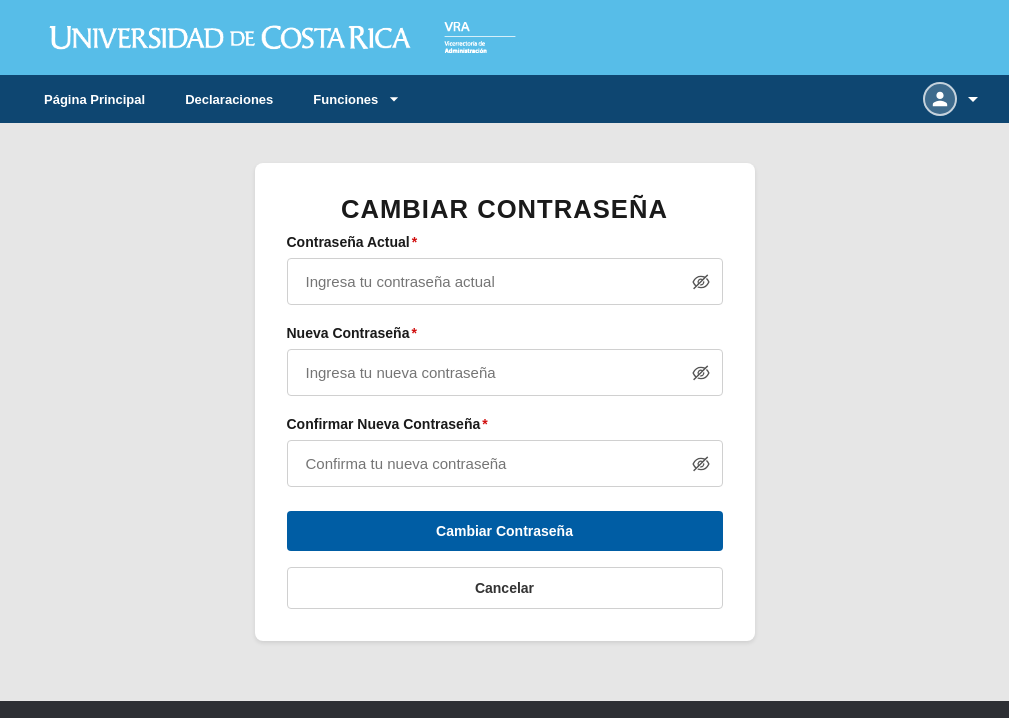
Test: ChangePassword Page › muestra error cuando nueva contraseña es igual a la actual
Type "SamePass12345!" into the password field with placeholder "Ingresa tu contraseña actual".
click(504, 282); type("SamePass12345!")  # box [286,258,722,305]
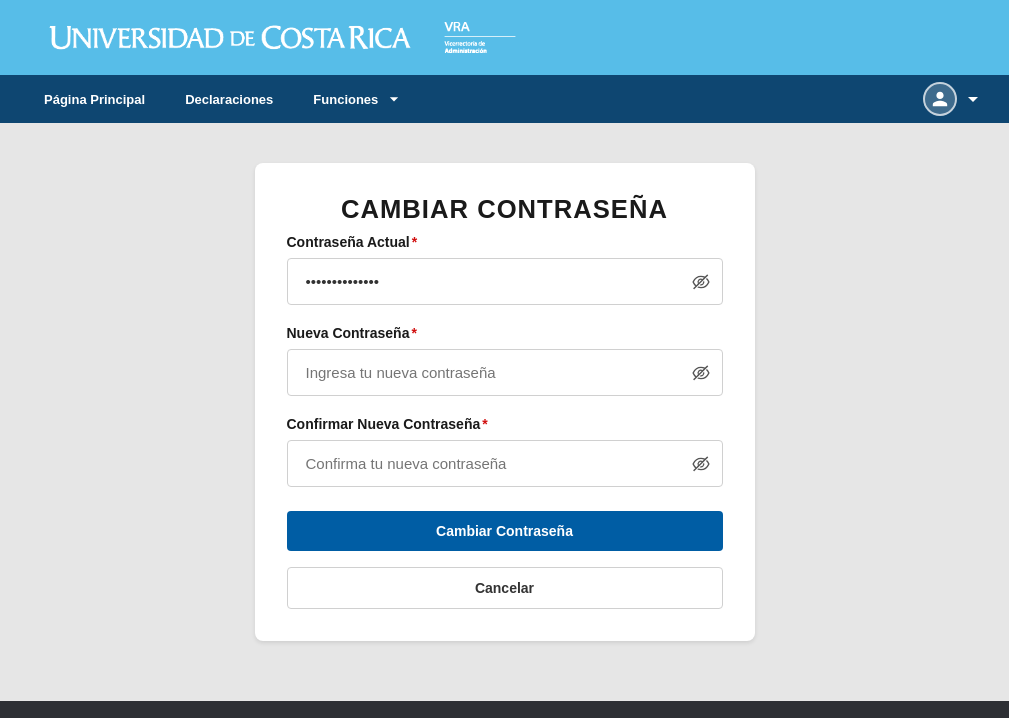
Type "SamePass12345!" into the password field with placeholder "Ingresa tu nueva contraseña".
click(504, 372); type("SamePass12345!")  # box [286,349,722,396]
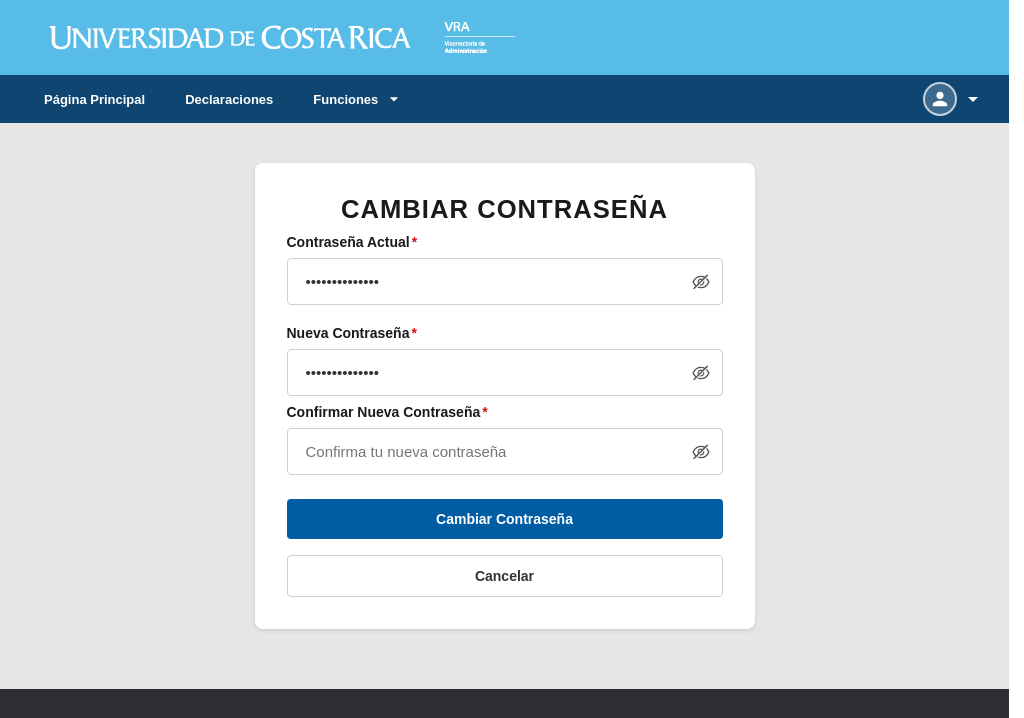
Type "SamePass12345!" into the password field with placeholder "Confirma tu nueva contraseña".
click(504, 452); type("SamePass12345!")  # box [286,428,722,475]
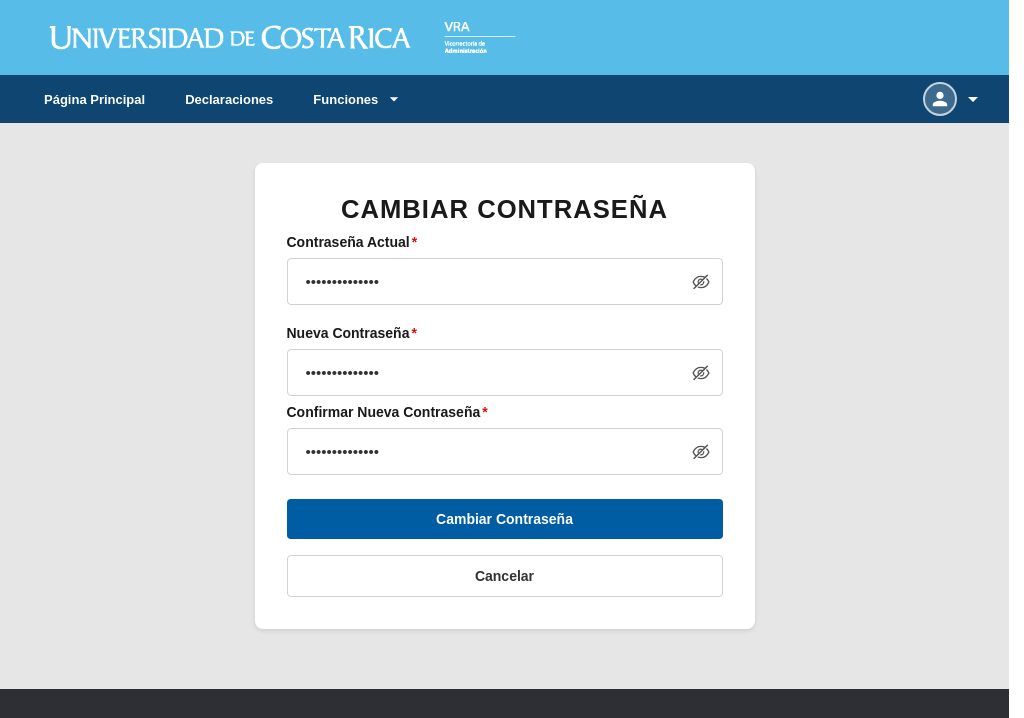
Submit the form, box [254,163,754,629]
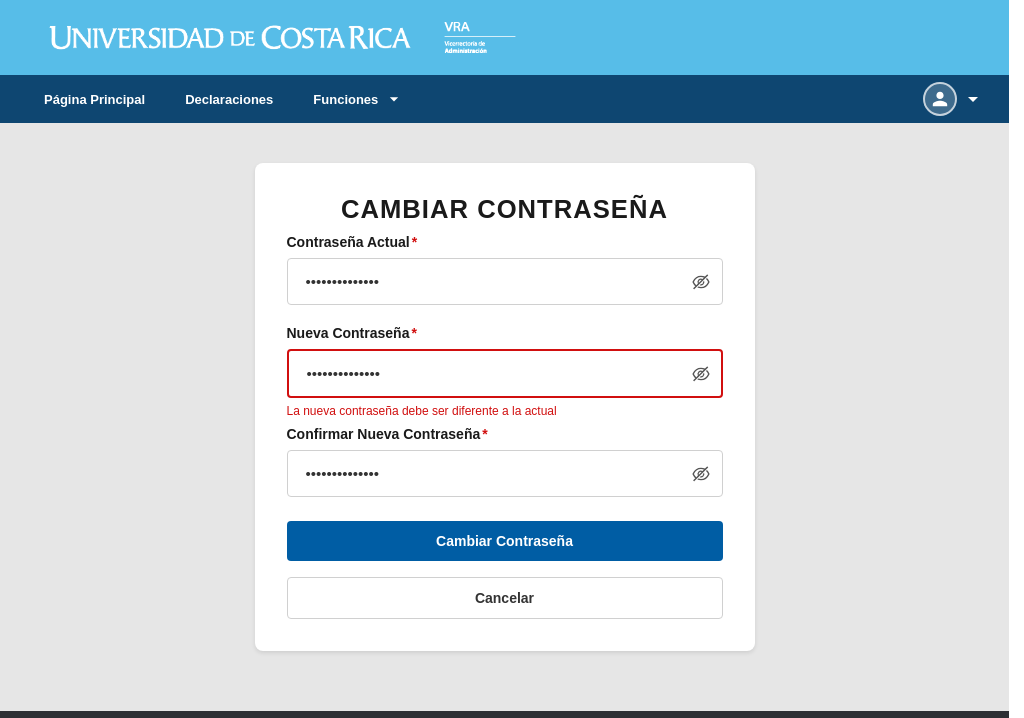
Expected: the text "La nueva contraseña debe ser diferente a la actual" is shown, [286,404,557,418]
